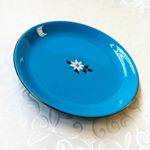other: (12, 17, 141, 121)
